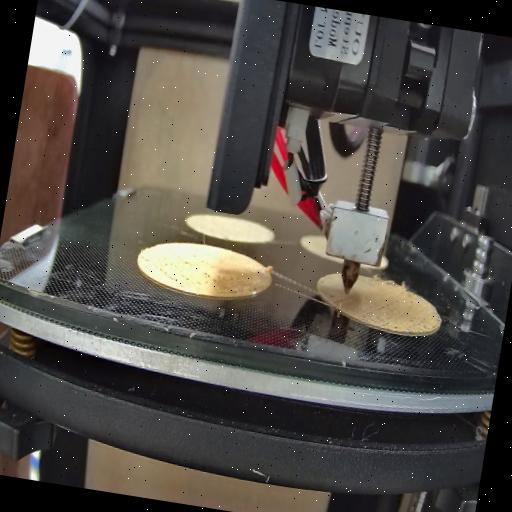under_extrusion: (137, 246, 223, 294), (389, 303, 444, 340), (230, 276, 261, 302)
